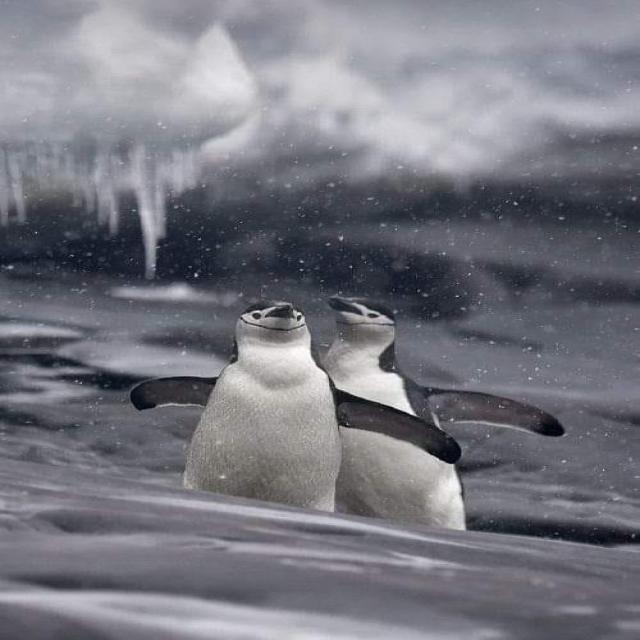Penguins: (295, 299, 476, 543), (188, 293, 335, 514)
